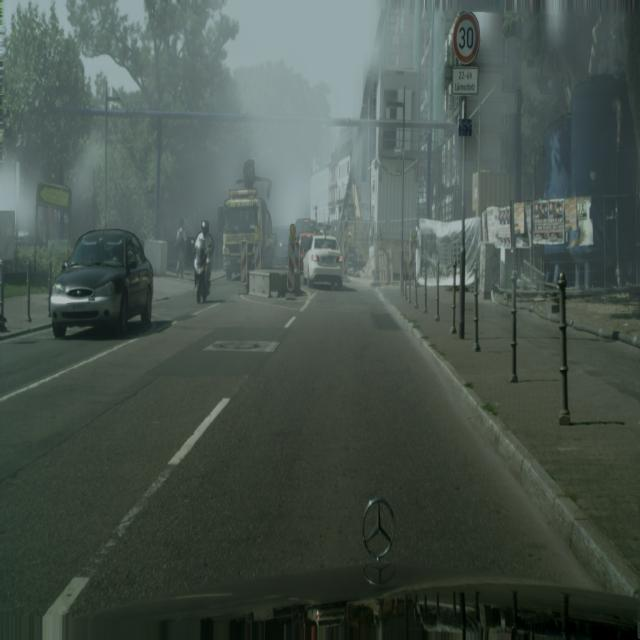bus: (193, 213, 211, 304)
person: (175, 221, 186, 279)
rider: (222, 166, 276, 281)
truck: (50, 229, 154, 338), (302, 234, 343, 290), (275, 226, 290, 260)
